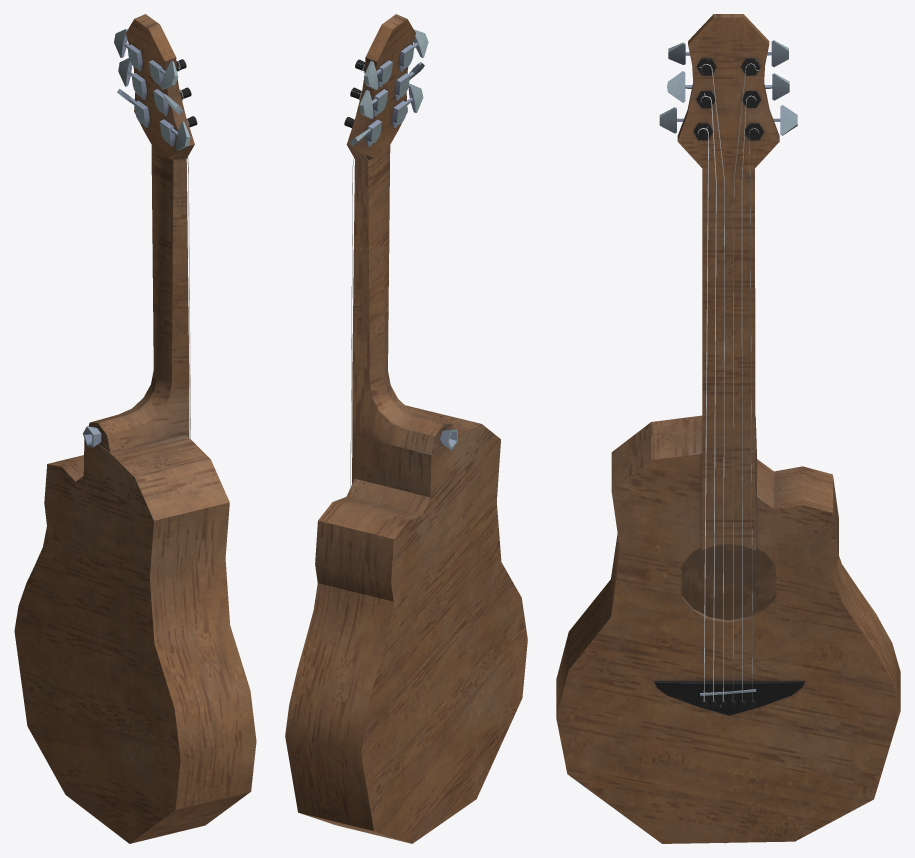
Rendered from Guitar.fbx.
3 renders of one model, left to right at view 1: azimuth 30°, elevation 25°; view 2: azimuth 150°, elevation 25°; view 3: azimuth 270°, elevation 25°, orthographic. The views are drawn at different scales.
Visible parts, largest first — view 1: Guitar; view 2: Guitar; view 3: Guitar.
Part boxes in pixels (<box>): Guitar: <box>14,14,256,843</box>; Guitar: <box>285,14,527,843</box>; Guitar: <box>556,14,900,843</box>.
Bounding box in the file's own units: 10.88 × 87.85 × 33.06.
1 material, 1 textured.
